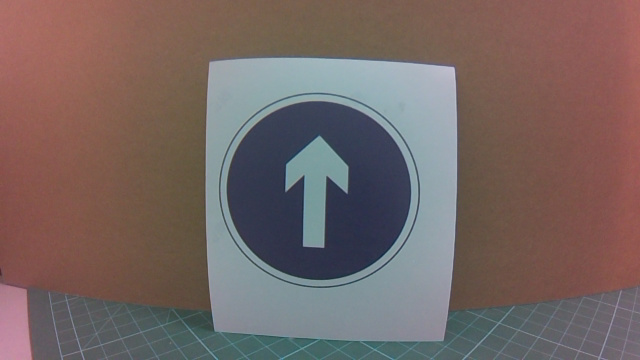forward: (233, 90, 429, 296)
